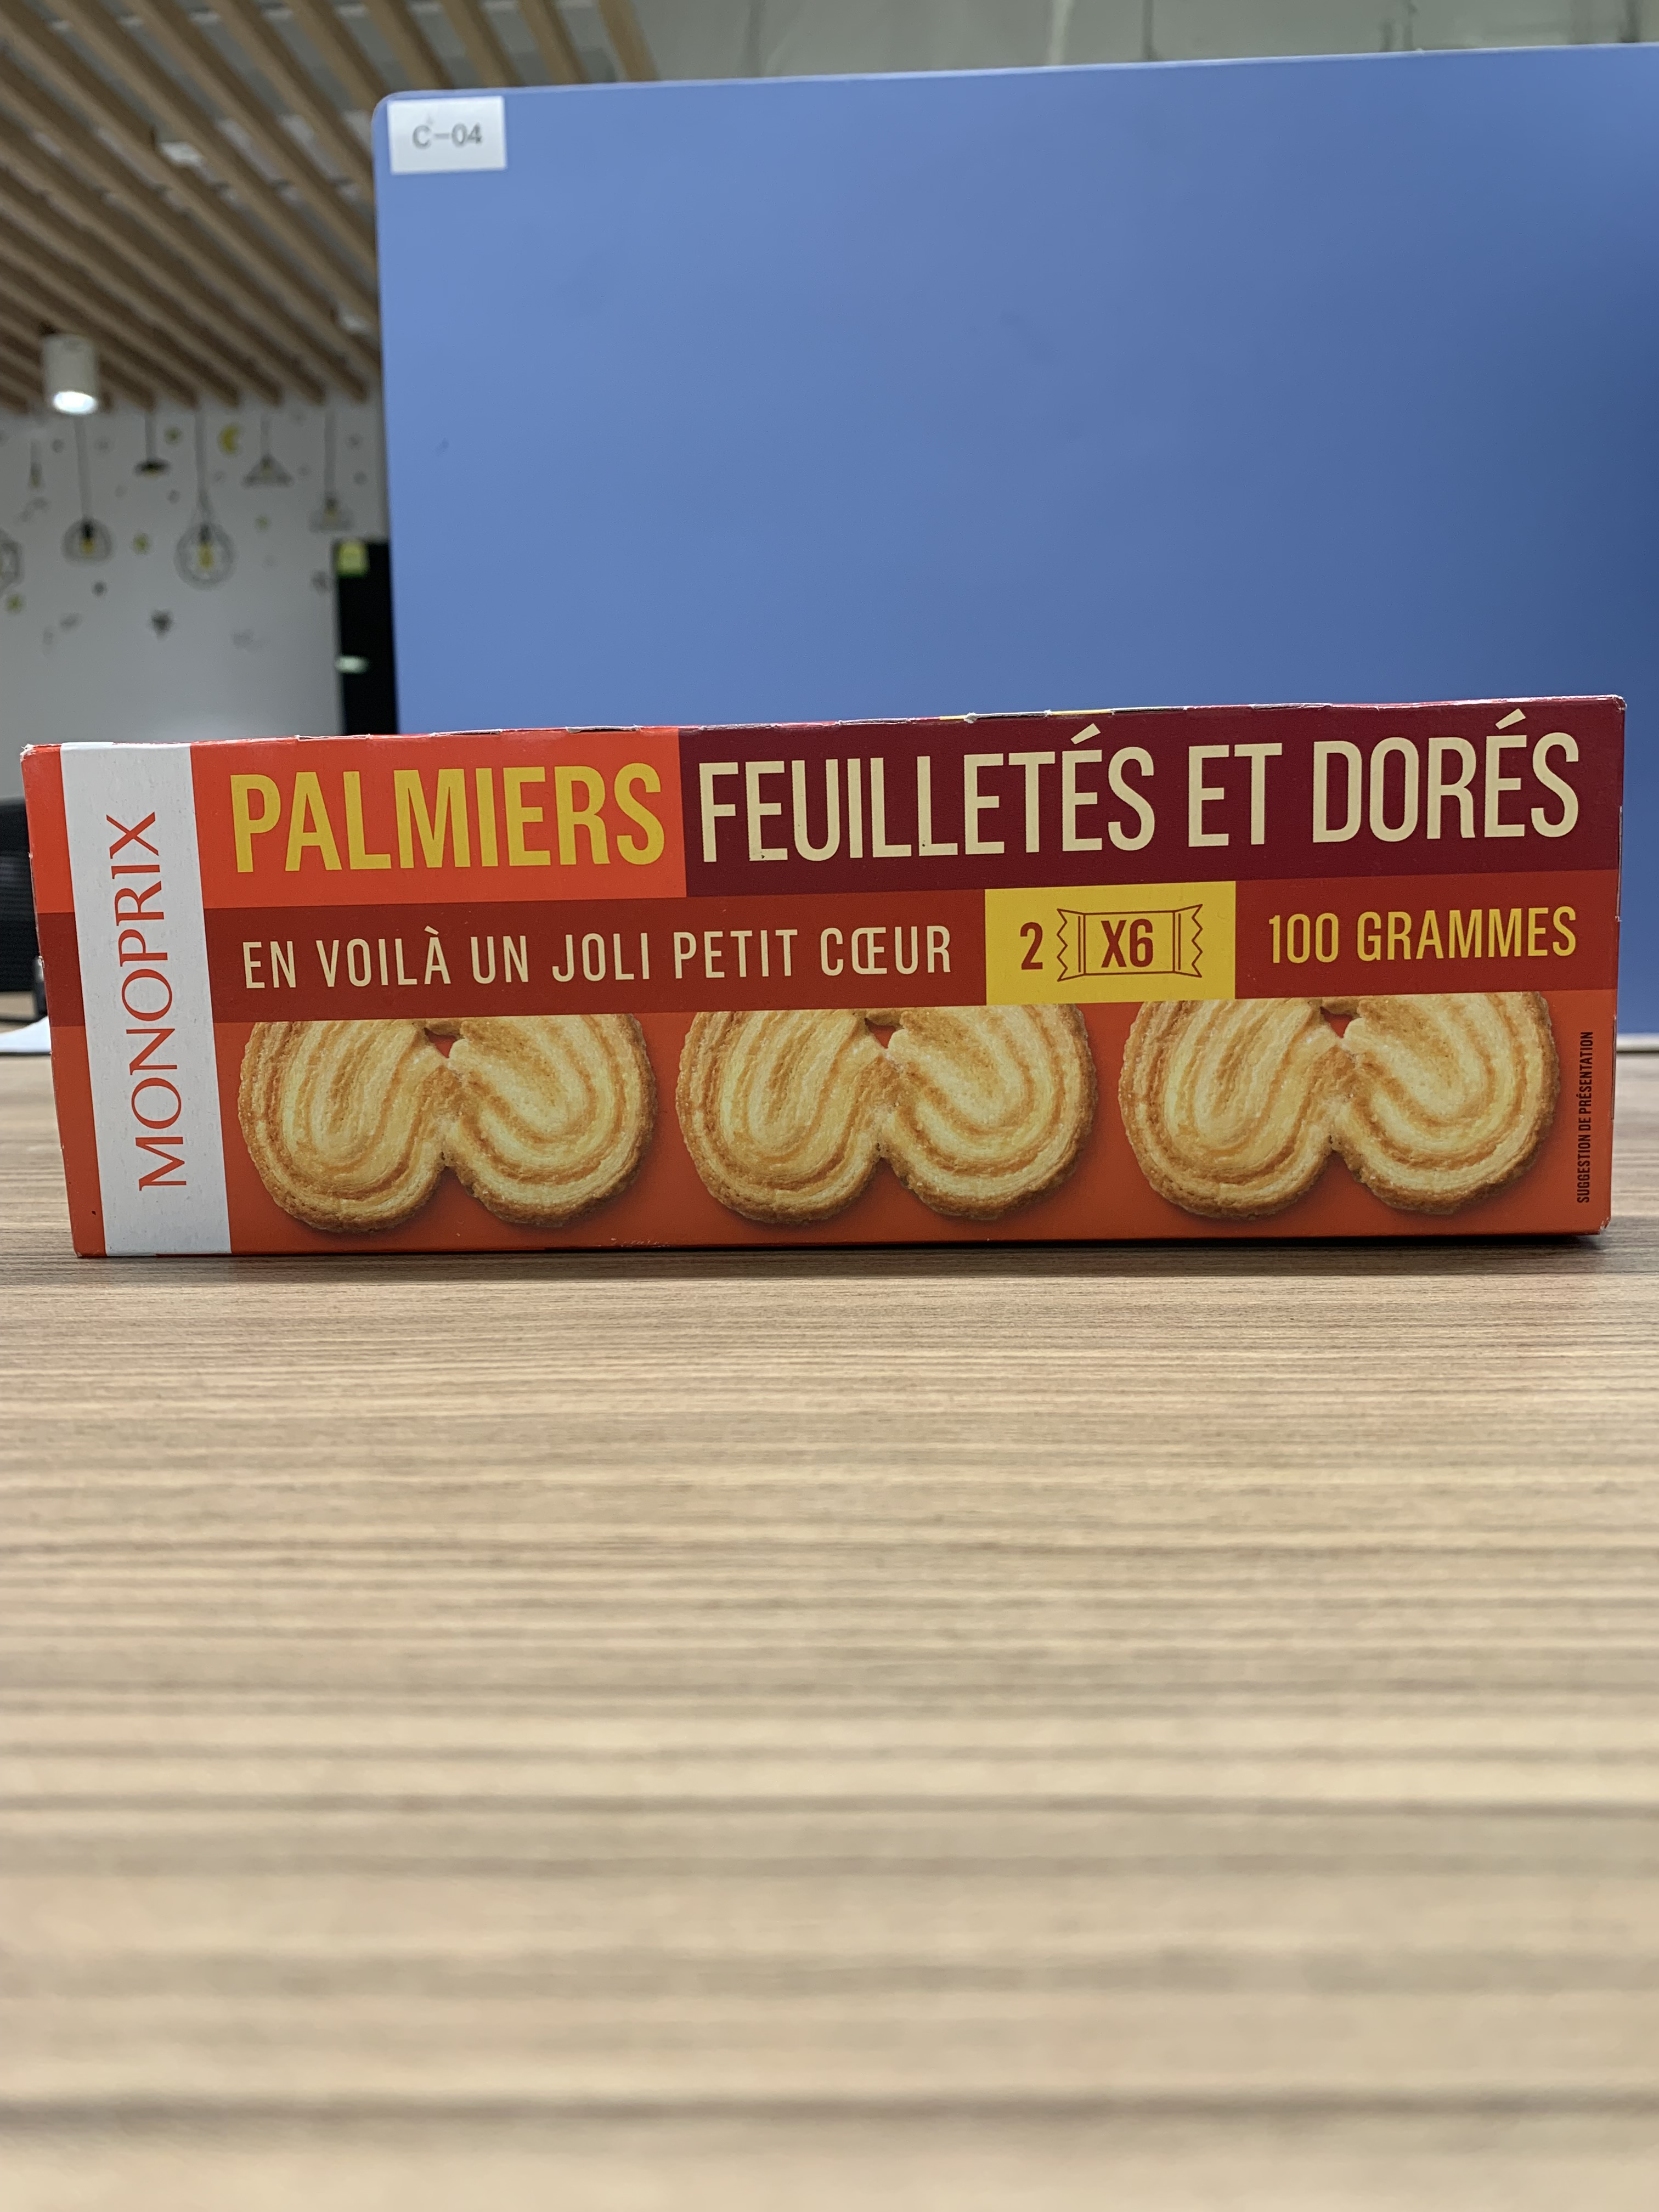cookies_100g-199g: (101, 763, 1586, 1230)
